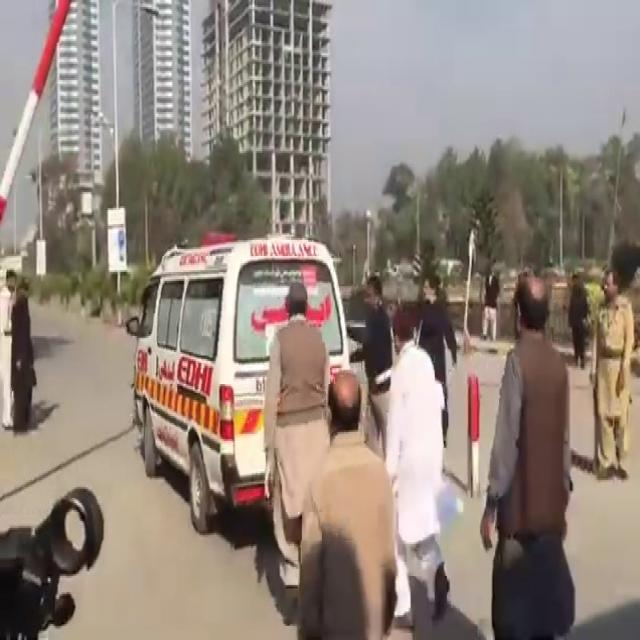ambulance: (132, 192, 378, 482)
